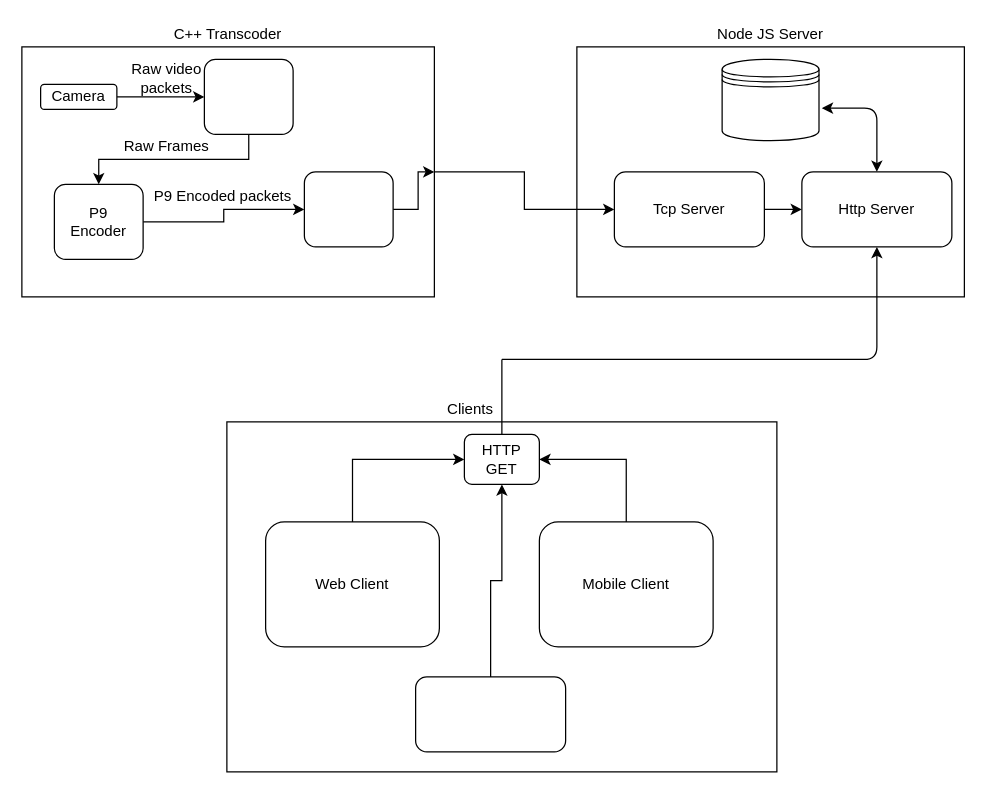
The diagram is 986 pixels wide and 794 high, and some of its shapes have lost their labels. The centre of each missing label's shape, as x and y in pixels:
Raw video Decoder: (x=248, y=96)
Sqlite: (x=770, y=99)
Tcp Socket: (x=348, y=209)
Vlc Player: (x=490, y=714)
